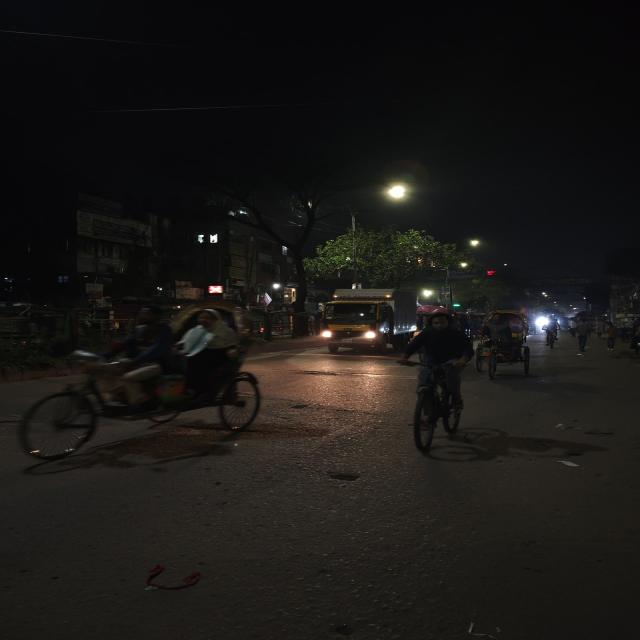bicycle: (393, 308, 478, 458), (542, 318, 561, 348)
pedestrian: (568, 316, 598, 354), (601, 321, 623, 353), (628, 317, 640, 359)
rickshaw: (4, 293, 269, 481), (474, 309, 534, 375)
truck: (310, 287, 413, 353)
